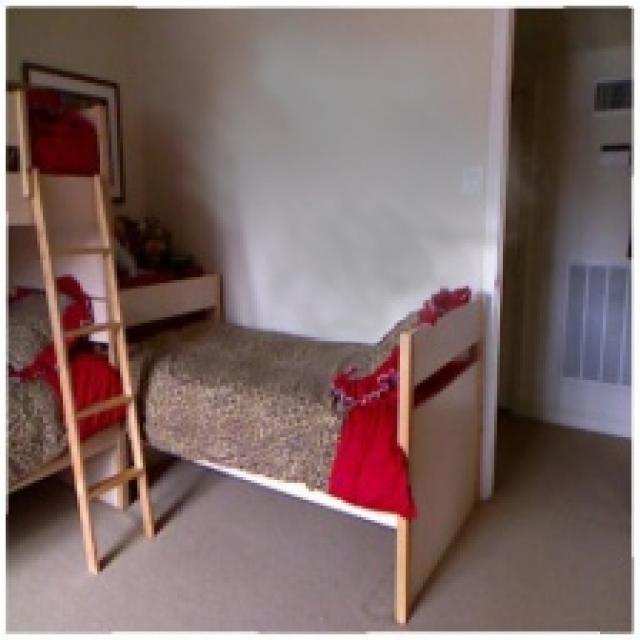Smoke: (160, 6, 554, 388)
